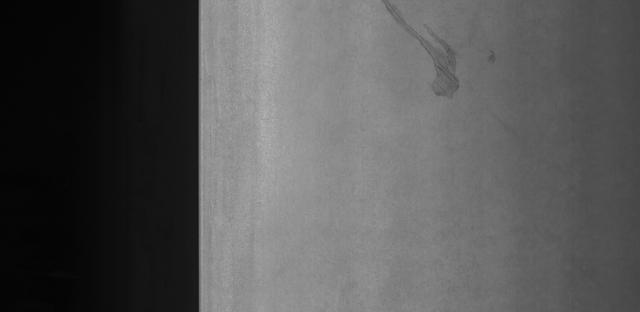water_spot: (363, 0, 485, 105)
